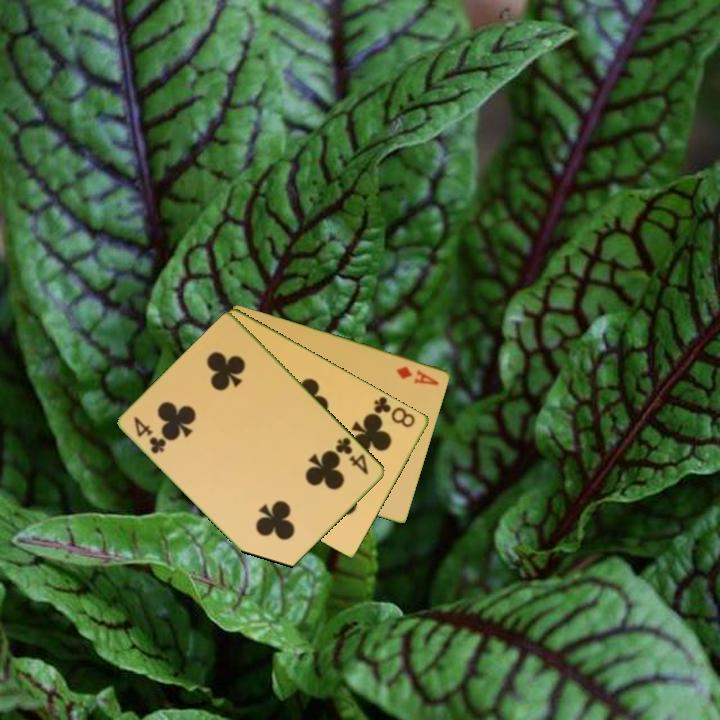4c: (332, 434, 372, 478), (130, 413, 170, 457)
8c: (371, 393, 419, 430)
Ad: (393, 362, 442, 388)
